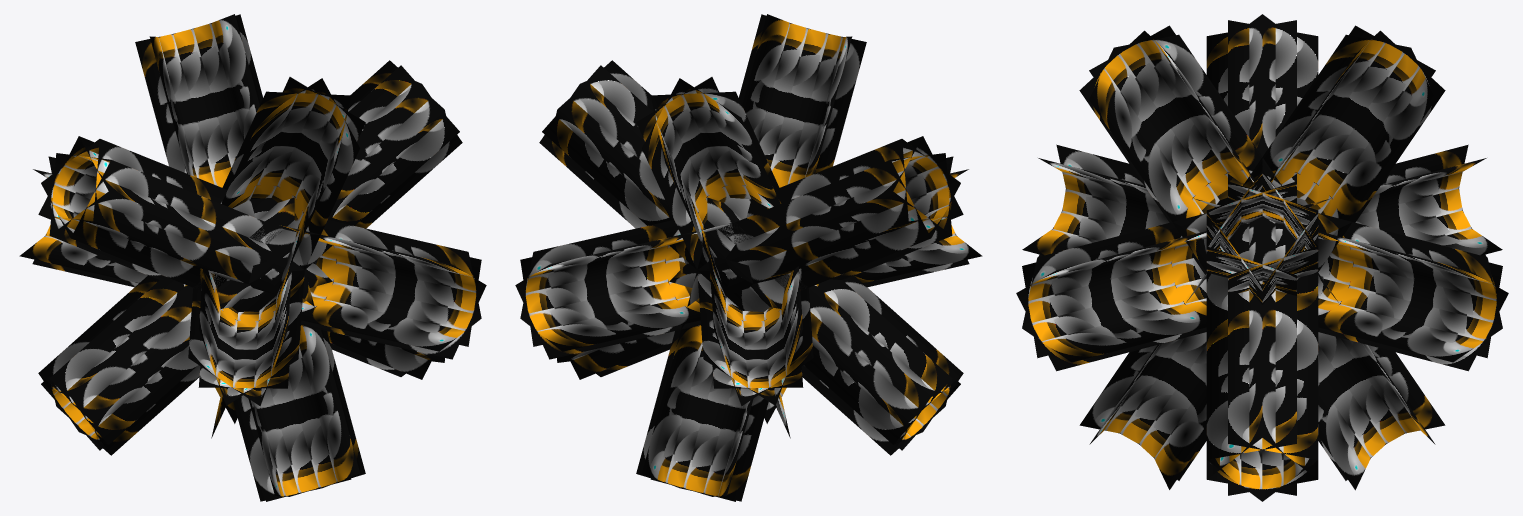
The model's file is GreatDodecahemidodecacron26.gltf.
3 views of the same model, side by side, from view 1: azimuth 30°, elevation 25°; view 2: azimuth 150°, elevation 25°; view 3: azimuth 270°, elevation 25° (orthographic). The views are drawn at different scales.
Visible parts, largest first — view 1: GreatDodecahemidodecacron1; view 2: GreatDodecahemidodecacron1; view 3: GreatDodecahemidodecacron1.
Boxes of the visible parts, left/top/right/bottom form: GreatDodecahemidodecacron1: left=19, top=14, right=486, bottom=501; GreatDodecahemidodecacron1: left=515, top=14, right=982, bottom=501; GreatDodecahemidodecacron1: left=1016, top=14, right=1508, bottom=501.
Size of the model in its own units: 13.61 by 13.61 by 13.61.
1 material, 1 textured.
